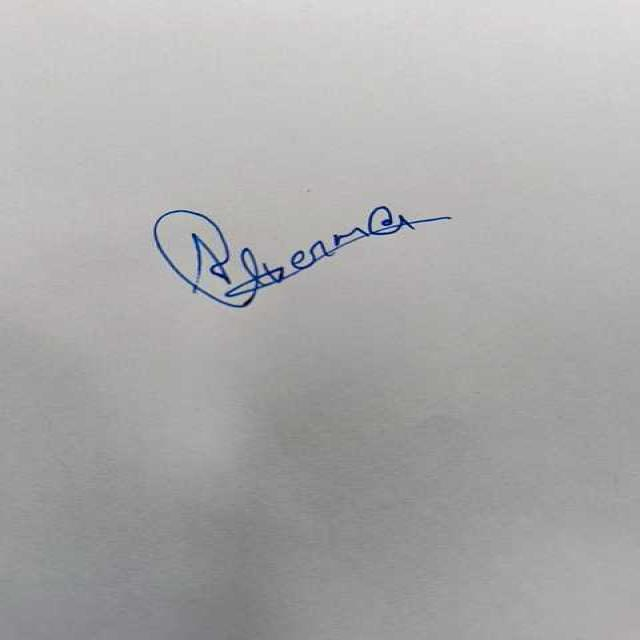signature: (122, 191, 483, 326)
